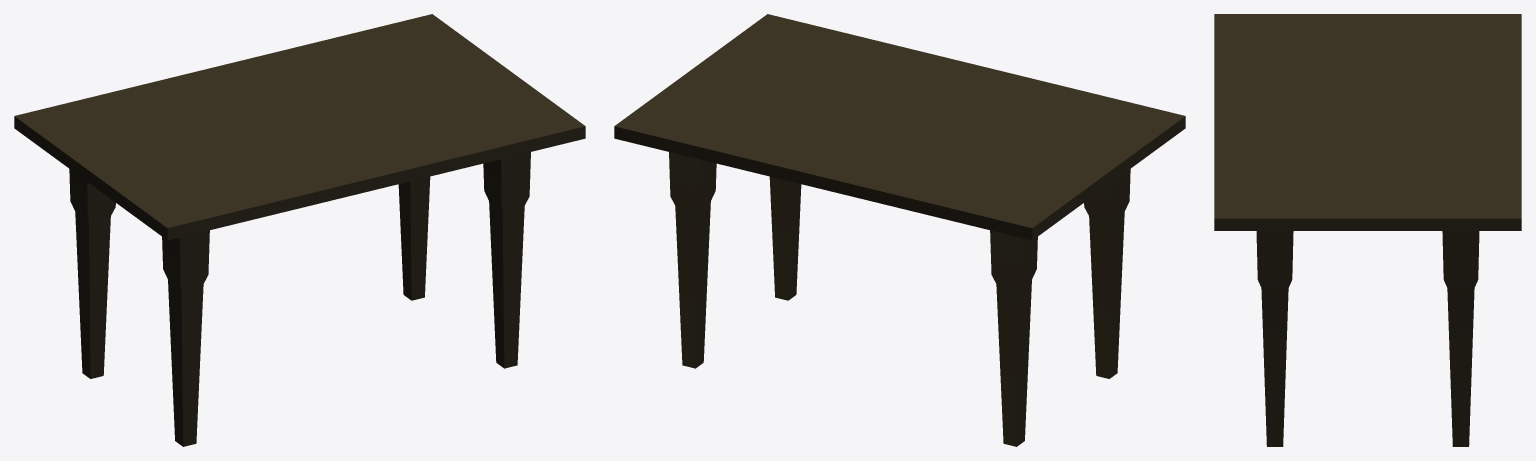
File: obs_med_woodTableA.fbx
The picture shows the model from 3 angles, left to right: view 1: azimuth 30°, elevation 25°; view 2: azimuth 150°, elevation 25°; view 3: azimuth 270°, elevation 25°; orthographic projection.
Parts seen in each view (by area): view 1: polySurface294; view 2: polySurface294; view 3: polySurface294.
Part boxes in pixels (x1,y1,x2,y2): polySurface294: (14, 14, 585, 446); polySurface294: (614, 14, 1185, 446); polySurface294: (1214, 14, 1521, 446).
Size of the model in its own units: 2.6 by 1.48 by 1.65.
